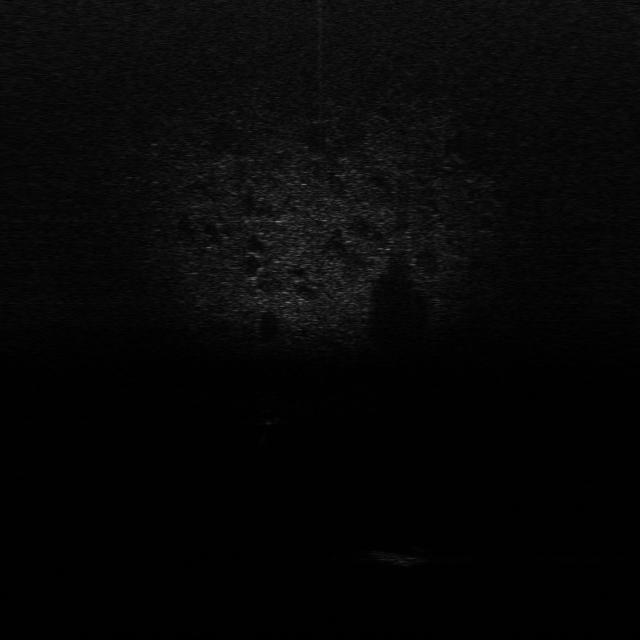ball: (253, 408, 281, 426)
metal bucket: (370, 544, 434, 571)
